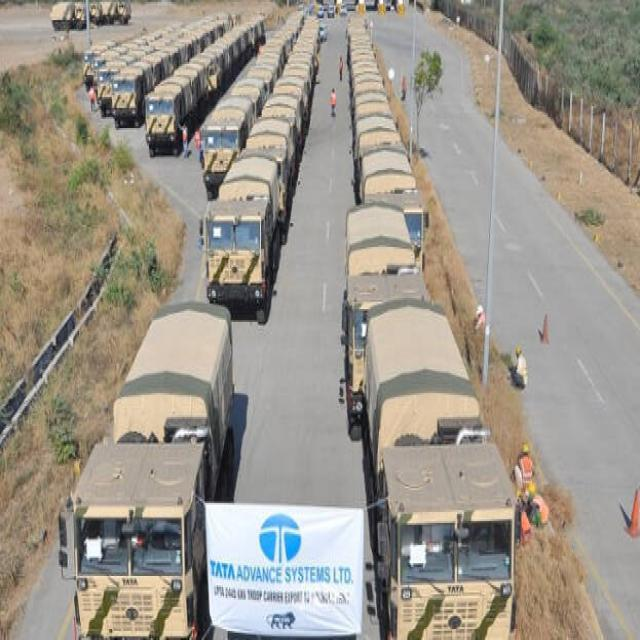truck: (71, 303, 234, 635), (365, 300, 515, 639), (205, 156, 280, 322)
